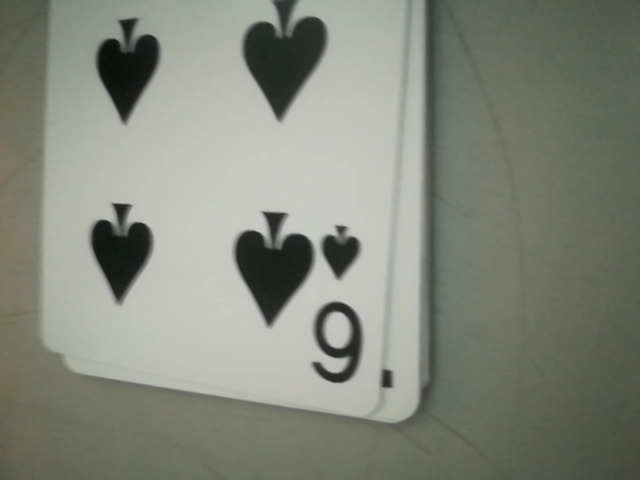ht 6: (305, 215, 380, 397)
